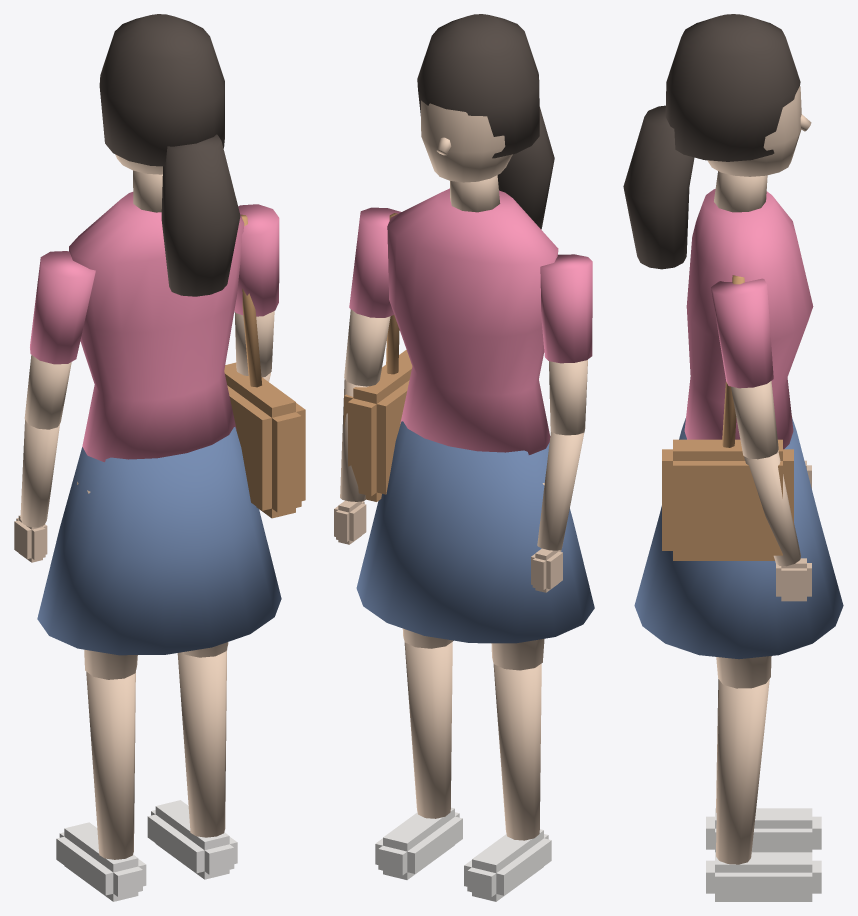
The model's file is pedestrian_female.glb.
The picture shows the model from 3 angles, left to right: view 1: azimuth 30°, elevation 25°; view 2: azimuth 150°, elevation 25°; view 3: azimuth 270°, elevation 25°; orthographic projection. The views are drawn at different scales.
Parts seen in each view (by area): view 1: FemSkirt, FemTorso, FemHairCap, FemPonytail, FemHandbag, Leg_L_Calf, Leg_R_Calf, Arm_L_Sleeve.001, Arm_R_Sleeve.001, Leg_L_Shoe.001, Leg_R_Shoe.001, Arm_L_Fore (+6 smaller); view 2: FemSkirt, FemTorso, FemHairCap, Leg_R_Calf, Leg_L_Calf, FemHandbag, Arm_L_Sleeve.001, FemHead, Leg_R_Shoe.001, Leg_L_Shoe.001, Arm_R_Sleeve.001, Arm_L_Fore (+10 smaller); view 3: FemSkirt, FemTorso, FemHairCap, FemHandbag, FemPonytail, Leg_R_Calf, Arm_R_Sleeve.001, Leg_R_Shoe.001, Leg_L_Shoe.001, Arm_R_Fore, Arm_R_Upper, FemHead (+4 smaller).
Part boxes in pixels (x1=…): FemSkirt: x1=37, y1=427, x2=281, y2=655; FemTorso: x1=69, y1=192, x2=244, y2=462; FemHairCap: x1=99, y1=14, x2=224, y2=166; FemPonytail: x1=161, y1=134, x2=240, y2=296; FemHandbag: x1=224, y1=362, x2=305, y2=518; Leg_L_Calf: x1=86, y1=671, x2=135, y2=859; Leg_R_Calf: x1=177, y1=649, x2=227, y2=837; Arm_L_Sleeve.001: x1=30, y1=251, x2=95, y2=364; Arm_R_Sleeve.001: x1=234, y1=204, x2=279, y2=316; Leg_L_Shoe.001: x1=56, y1=822, x2=146, y2=901; Leg_R_Shoe.001: x1=147, y1=800, x2=237, y2=879; Arm_L_Fore: x1=20, y1=420, x2=59, y2=527; FemSkirt: x1=356, y1=421, x2=594, y2=643; FemTorso: x1=387, y1=188, x2=558, y2=454; FemHairCap: x1=417, y1=14, x2=539, y2=158; Leg_R_Calf: x1=404, y1=642, x2=452, y2=818; Leg_L_Calf: x1=493, y1=663, x2=541, y2=840; FemHandbag: x1=344, y1=350, x2=412, y2=501; Arm_L_Sleeve.001: x1=540, y1=254, x2=592, y2=363; FemHead: x1=421, y1=100, x2=512, y2=182; Leg_R_Shoe.001: x1=375, y1=807, x2=462, y2=879; Leg_L_Shoe.001: x1=464, y1=829, x2=551, y2=901; Arm_R_Sleeve.001: x1=349, y1=207, x2=401, y2=317; Arm_L_Fore: x1=537, y1=432, x2=584, y2=550; FemSkirt: x1=634, y1=418, x2=843, y2=659; FemTorso: x1=684, y1=189, x2=813, y2=449; FemHairCap: x1=665, y1=14, x2=800, y2=161; FemHandbag: x1=662, y1=439, x2=793, y2=560; FemPonytail: x1=623, y1=105, x2=694, y2=269; Leg_R_Calf: x1=716, y1=679, x2=769, y2=864; Arm_R_Sleeve.001: x1=711, y1=278, x2=773, y2=388; Leg_R_Shoe.001: x1=706, y1=852, x2=821, y2=901; Leg_L_Shoe.001: x1=706, y1=808, x2=821, y2=852; Arm_R_Fore: x1=744, y1=450, x2=800, y2=566; Arm_R_Upper: x1=731, y1=381, x2=778, y2=459; FemHead: x1=707, y1=86, x2=801, y2=176.
Bounding box in the file's own units: 0.5063 × 1.71 × 0.4.
